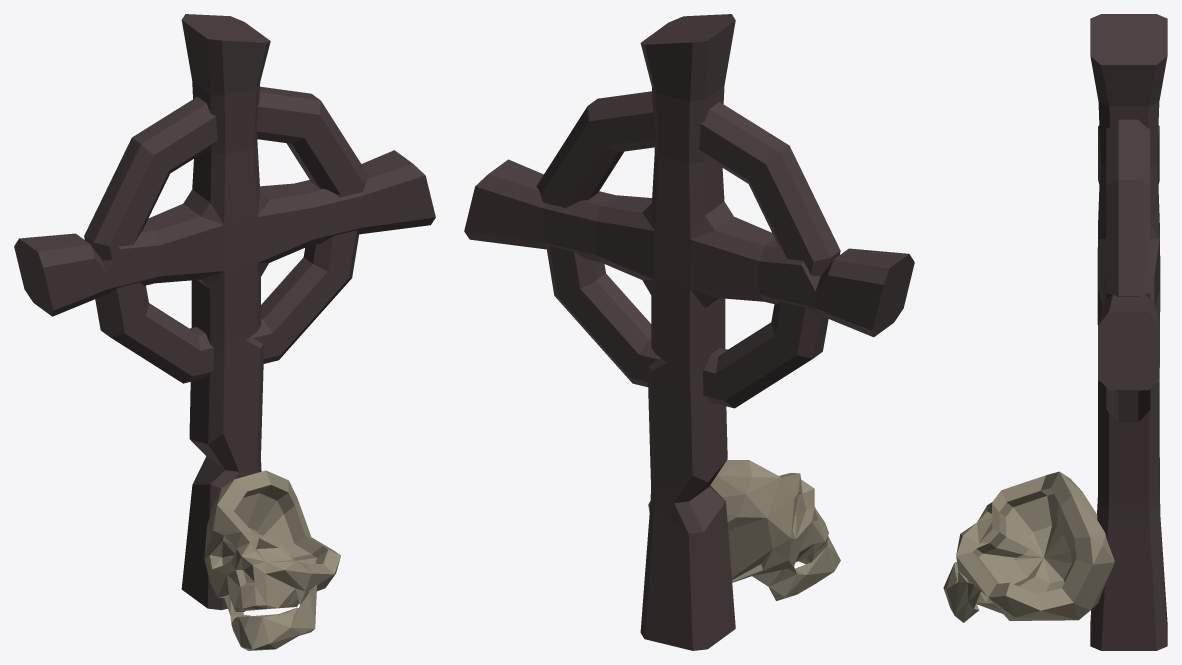
Rendered from cemetry_zeolite4.fbx.
3 renders of one model, left to right at view 1: azimuth 30°, elevation 25°; view 2: azimuth 150°, elevation 25°; view 3: azimuth 270°, elevation 25°, orthographic. The views are drawn at different scales.
Parts seen in each view (by area): view 1: bisuk4; view 2: bisuk4; view 3: bisuk4.
Part boxes in pixels (x1,y1,x2,y2): bisuk4: [14, 14, 435, 650]; bisuk4: [464, 14, 914, 650]; bisuk4: [943, 14, 1167, 650].
Bounding box in the file's own units: 153 × 213 × 71.42.
